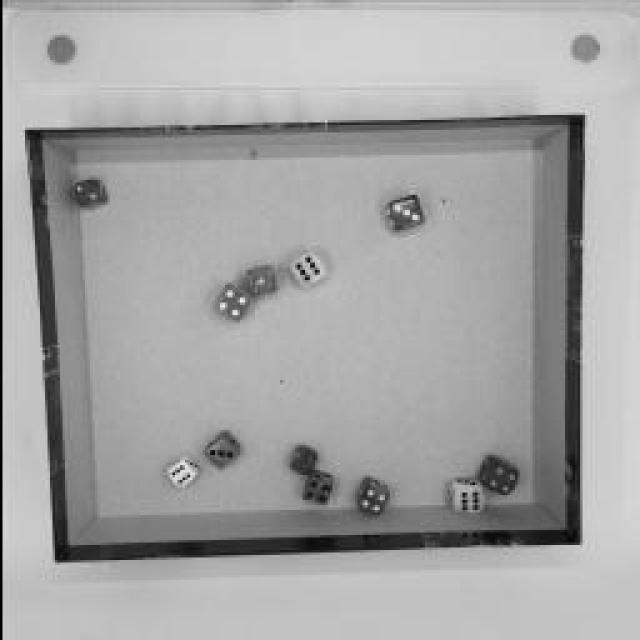dice_1: (240, 264, 275, 298)
dice_2: (68, 178, 108, 210)
dice_3: (200, 428, 245, 472), (380, 194, 422, 234), (285, 445, 317, 475)
dice_4: (472, 450, 520, 495), (211, 280, 254, 325), (350, 475, 390, 515), (297, 469, 335, 506)
dice_6: (282, 249, 328, 291), (444, 476, 486, 516), (164, 452, 198, 490)
